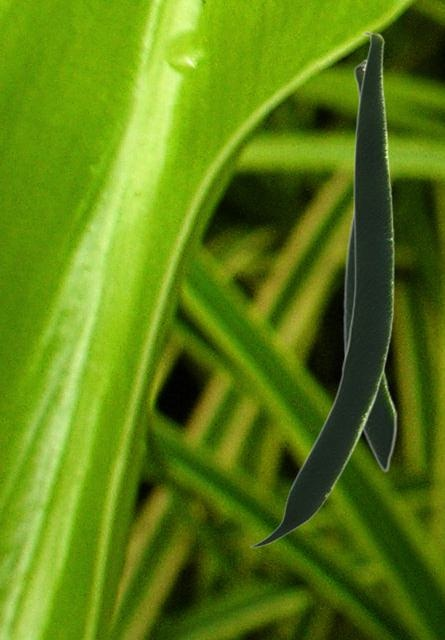french_bean: (249, 31, 393, 547), (342, 58, 397, 472)
